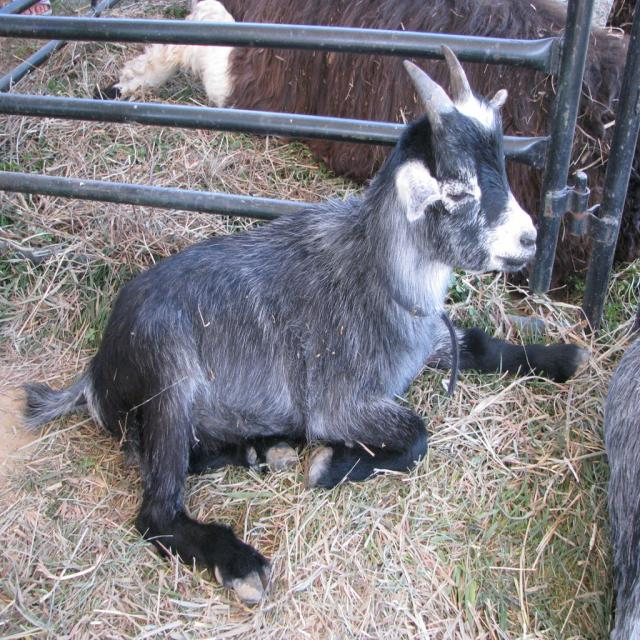Goat: (27, 41, 586, 610)
